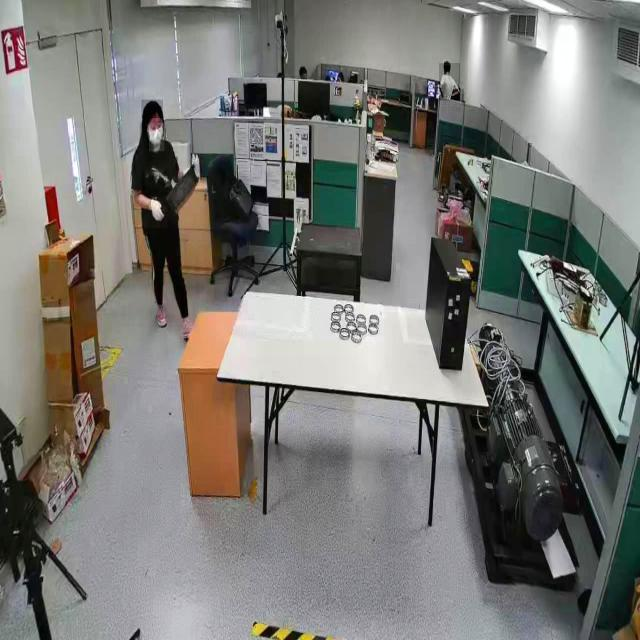face_mask: (149, 123, 165, 151)
hand_glove: (145, 198, 167, 228), (192, 150, 204, 182)
head_nohelmet: (142, 100, 164, 119), (442, 60, 450, 66)
person: (128, 105, 200, 328), (439, 63, 461, 101)
shoes: (180, 312, 198, 344), (152, 303, 169, 330)
